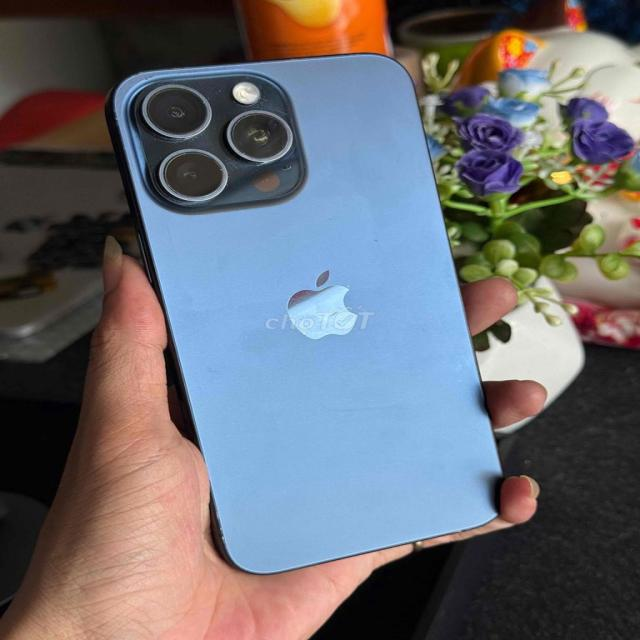physical_damage: (126, 75, 311, 204)
scratch: (284, 274, 366, 338), (206, 501, 230, 546)
